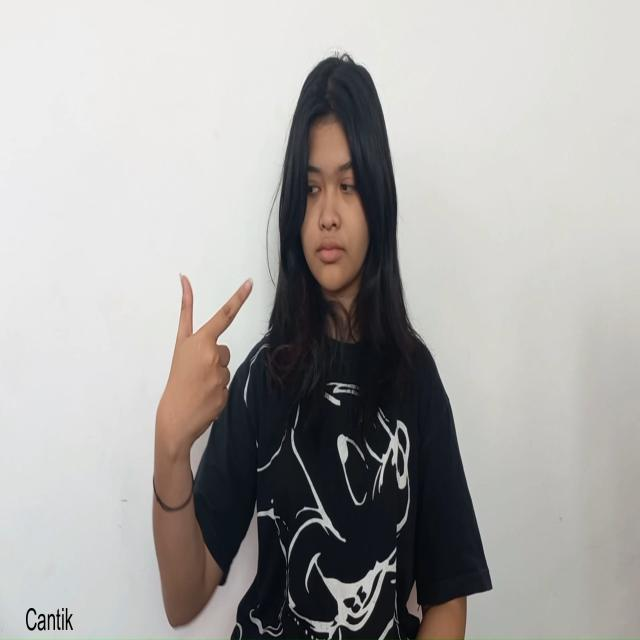Cantik -BISINDO-: (153, 269, 255, 466)
